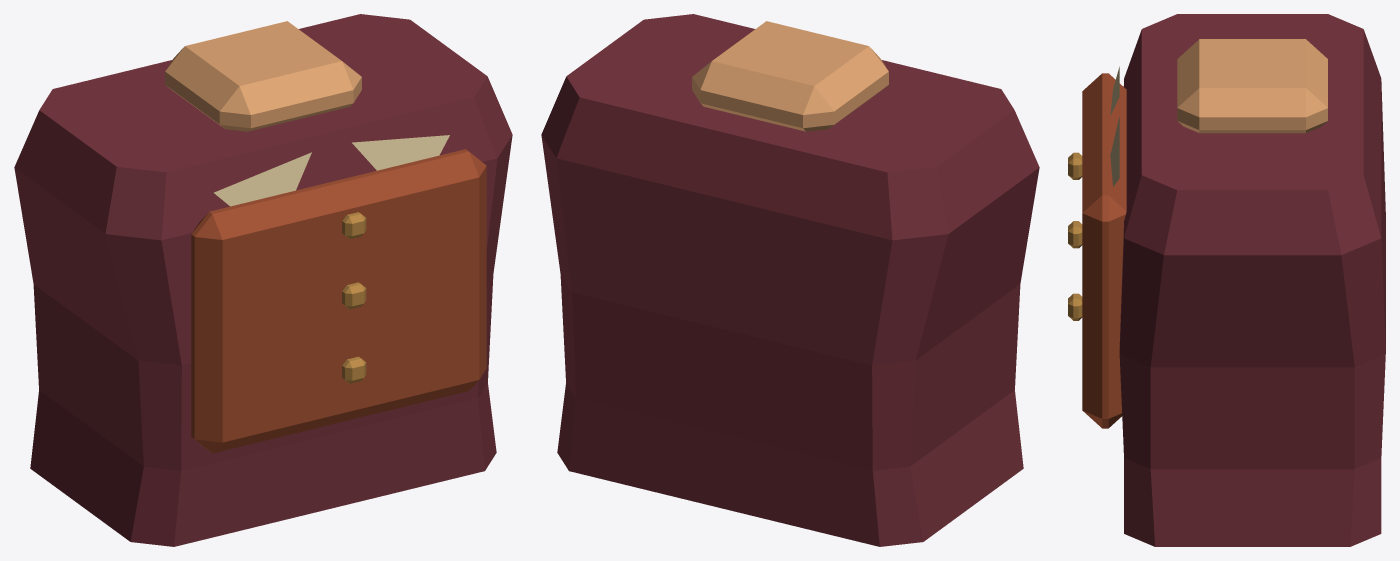
File: SM_NPC_Torso_05_Merchant.glb
The picture shows the model from 3 angles, left to right: view 1: azimuth 30°, elevation 25°; view 2: azimuth 150°, elevation 25°; view 3: azimuth 270°, elevation 25°; orthographic projection. The views are drawn at different scales.
Parts seen in each view (by area): view 1: SM_NPC_Torso_05_Merchant; view 2: SM_NPC_Torso_05_Merchant; view 3: SM_NPC_Torso_05_Merchant.
Part boxes in pixels (box(x1,y1,x2,y2)): SM_NPC_Torso_05_Merchant: box(14, 14, 512, 546); SM_NPC_Torso_05_Merchant: box(541, 14, 1039, 546); SM_NPC_Torso_05_Merchant: box(1068, 14, 1385, 546).
Bounding box in the file's own units: 0.516 × 0.493 × 0.358.
